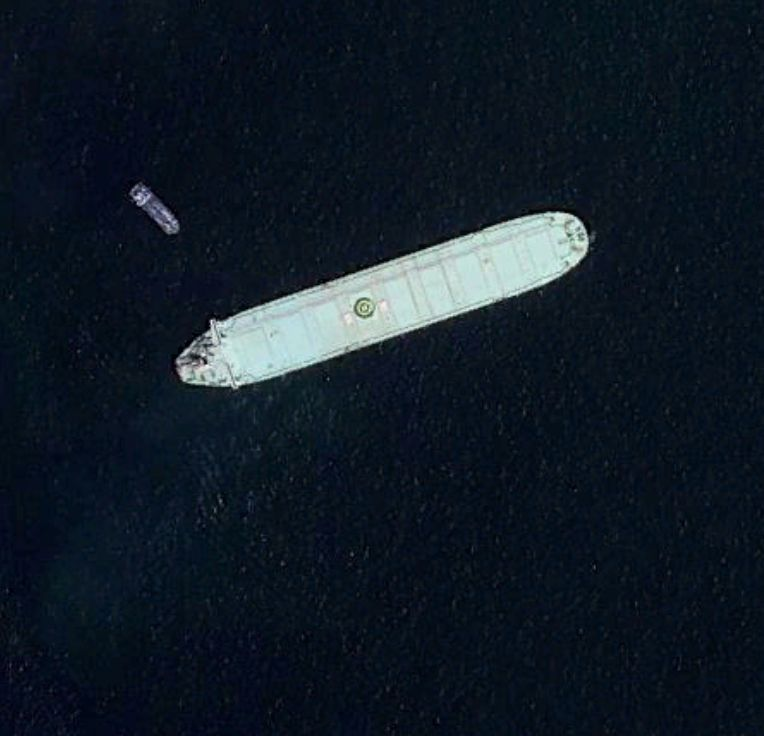boat: (175, 210, 591, 391), (127, 180, 182, 238)
